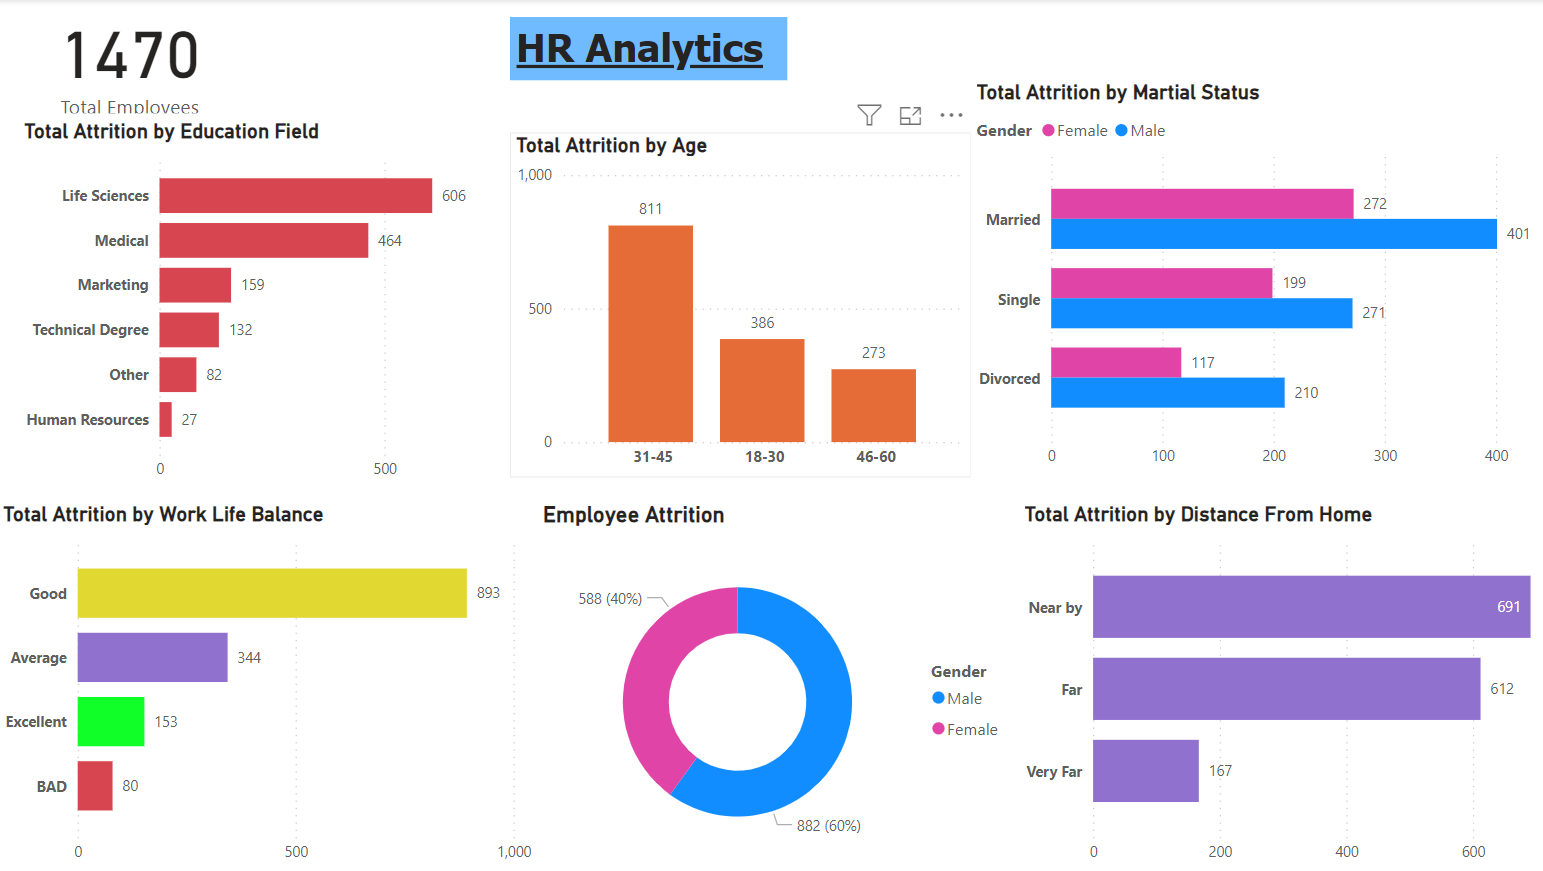

Layout of this report page (visuals, bound fields, positions):
{"tool":"powerbi","page":{"name":"Page 1","canvas":[1280,720],"ordinal":0},"visuals":[{"type":"card","fields":{"Values":["CountNonNull(HR-Employee-Attrition.Attrition)"]},"box":[0,0,217.5,98.7],"z":0},{"type":"barChart","title":"Total Attrition by Education Field","fields":{"Y":["CountNonNull(HR-Employee-Attrition.EducationField)"],"Category":["HR-Employee-Attrition.EducationField"]},"box":[17.3,98.7,427,305.5],"z":1000},{"type":"barChart","title":"Total Attrition by Work Life Balance","fields":{"Category":["HR-Employee-Attrition.WorkLifeBalance (groups)"],"Y":["CountNonNull(HR-Employee-Attrition.WorkLifeBalance (groups))"]},"box":[0,413.6,444.3,305.5],"z":2000},{"type":"barChart","title":"Total Attrition by Distance From Home","fields":{"Category":["HR-Employee-Attrition.DistanceFromHome (groups)"],"Y":["CountNonNull(HR-Employee-Attrition.DistanceFromHome (groups))"]},"box":[839.3,413.6,440.3,305.5],"z":3000},{"type":"columnChart","title":"Total Attrition by Age","fields":{"Category":["HR-Employee-Attrition.Age 2"],"Y":["CountNonNull(HR-Employee-Attrition.Age 2)"]},"box":[421.6,109.4,378.9,284.2],"z":4000},{"type":"clusteredBarChart","title":"Total Attrition by Martial Status","fields":{"Category":["HR-Employee-Attrition.MaritalStatus"],"Y":["CountNonNull(HR-Employee-Attrition.MaritalStatus)"],"Series":["HR-Employee-Attrition.Gender"]},"box":[800.6,66.7,479,326.9],"z":5000},{"type":"donutChart","title":"Employee Attrition","fields":{"Category":["HR-Employee-Attrition.Gender"],"Y":["CountNonNull(HR-Employee-Attrition.Gender)"]},"box":[444.3,413.6,394.9,306.9],"z":6000},{"type":"textbox","box":[421.6,14.7,220.2,52],"z":7000}]}

Visuals, with their boxes in screenshot pixels (x1, y1, x2, y2), scaled from the page's 1280x720 canvas onto the 1543x871 screenshot:
card - CountNonNull(HR-Employee-Attrition.Attrition): (0,0,262,119)
"Total Attrition by Education Field" barChart: (21,119,536,489)
"Total Attrition by Work Life Balance" barChart: (0,500,536,870)
"Total Attrition by Distance From Home" barChart: (1012,500,1542,870)
"Total Attrition by Age" columnChart: (508,132,965,476)
"Total Attrition by Martial Status" clusteredBarChart: (965,81,1542,476)
"Employee Attrition" donutChart: (536,500,1012,870)
textbox: (508,18,774,81)
